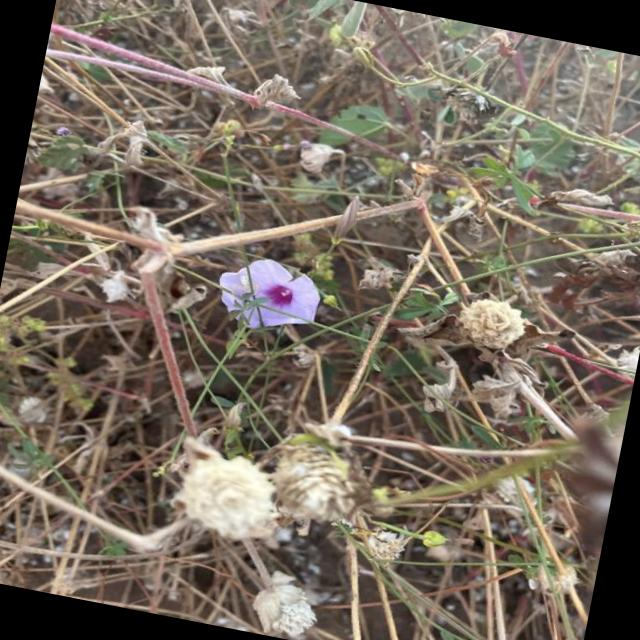ipomoea: (161, 438, 293, 552), (206, 248, 330, 344), (242, 564, 329, 640), (447, 288, 535, 359)
